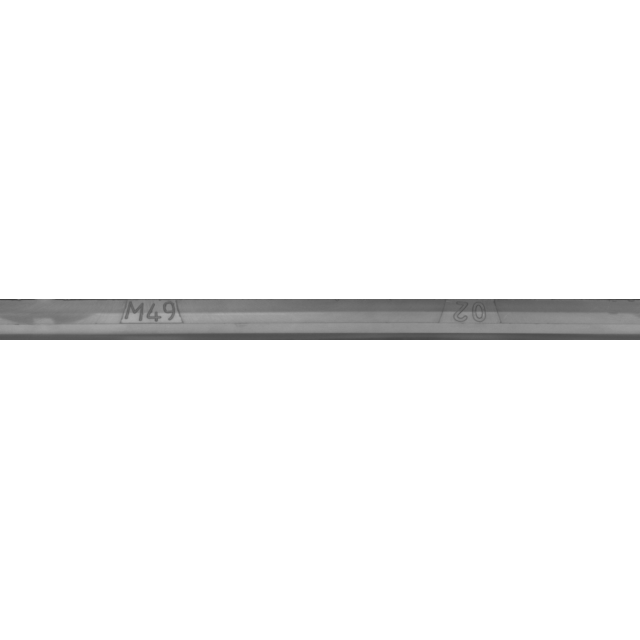mohao: (50, 270, 250, 370)
xuehao: (369, 270, 569, 370)
